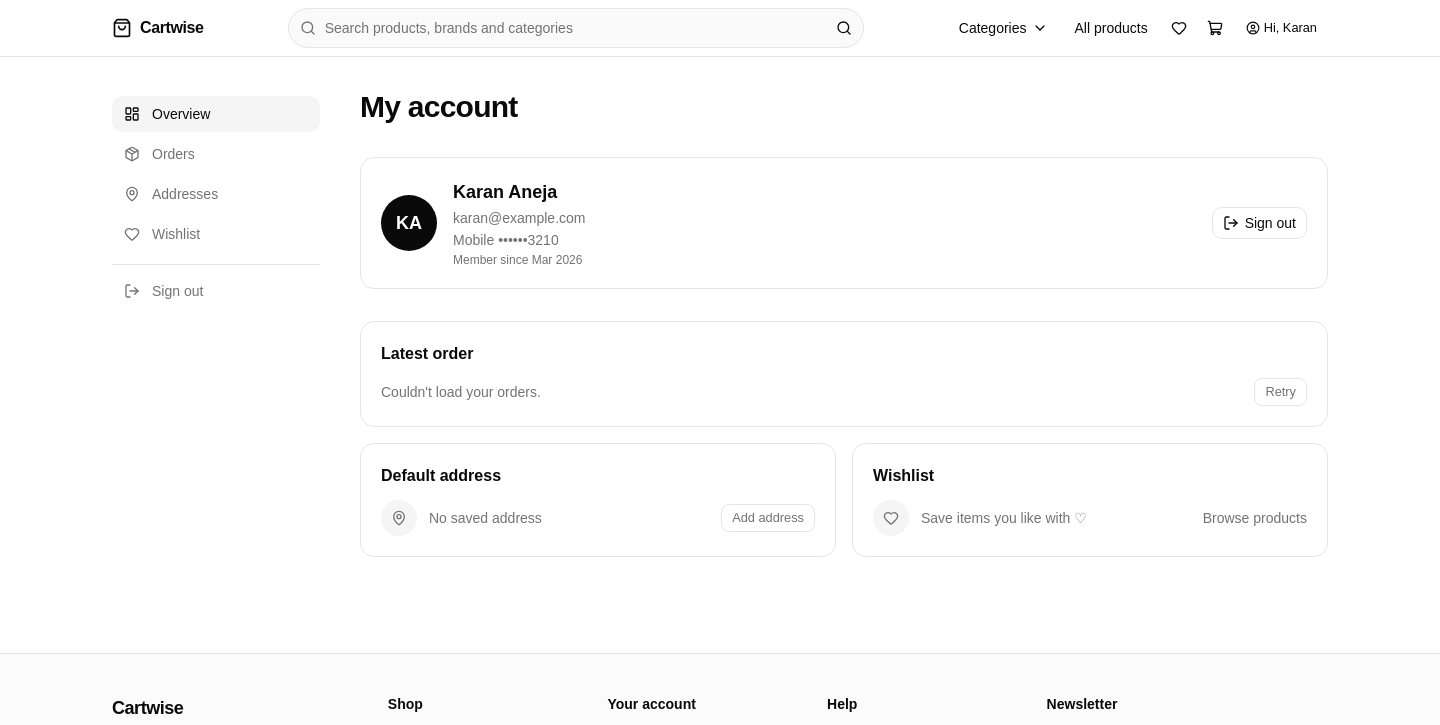
Test case: account overview (F-017) › keeps the other tiles when orders fail to load, and retries
The width and height of the screenshot is (1440, 725).
Check: the text "Couldn't load your orders." is shown, box [381,384,541,400]
Check: the text "No saved address" is shown, box [429,510,542,526]
Click the button "Retry" at (1281, 392), box [1254,378,1307,406]
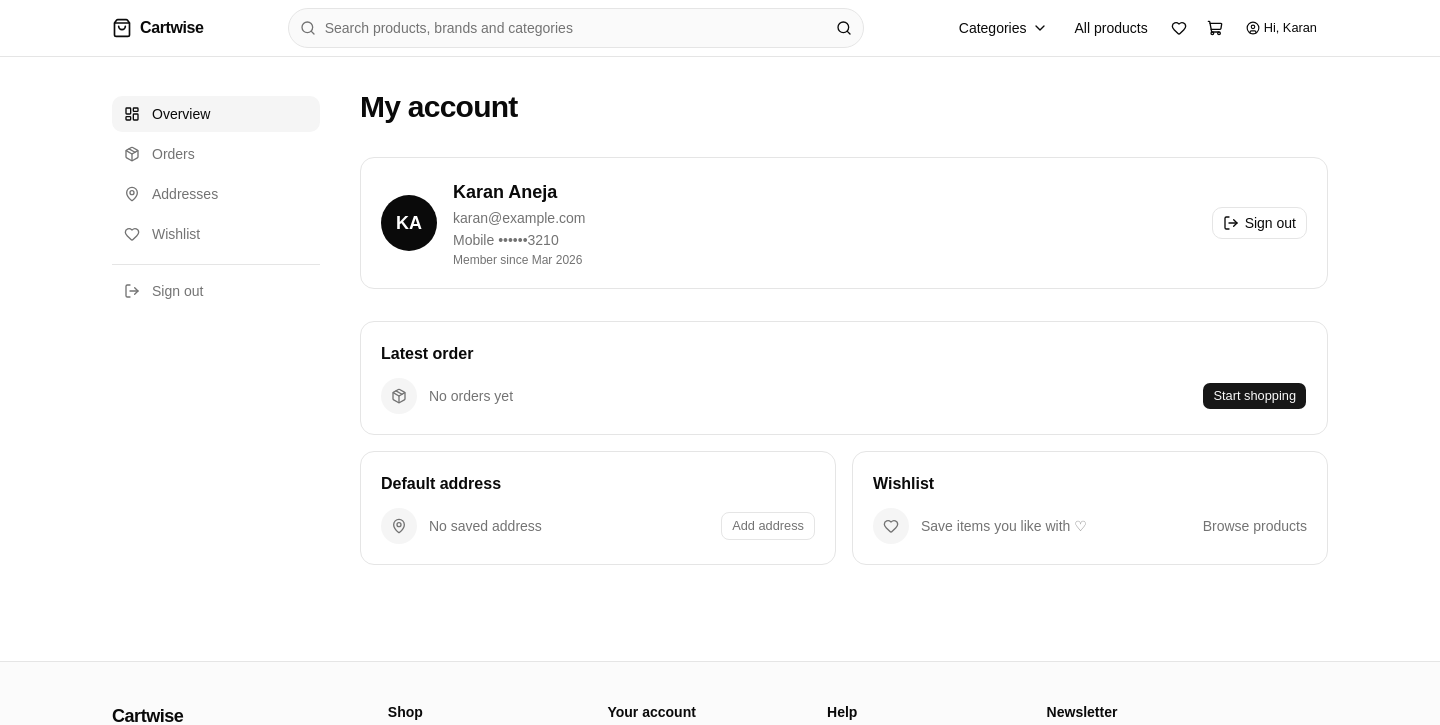
Check: the text "No orders yet" is shown, box [429,388,513,404]
